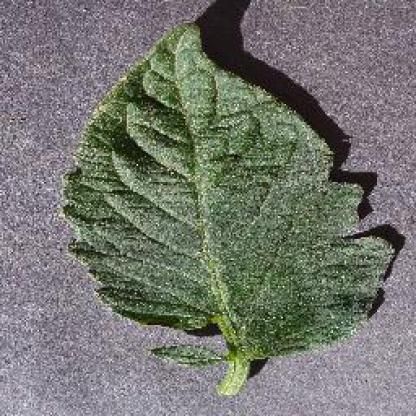bad leaf: (67, 26, 389, 392)
